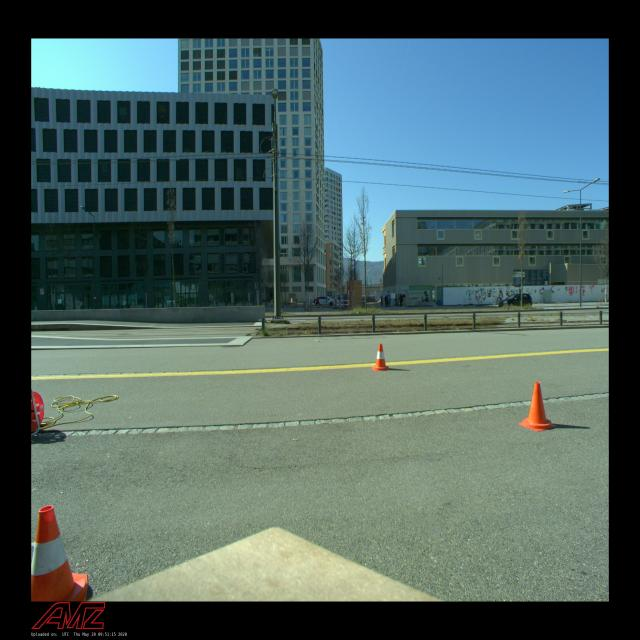orange_cone: (31, 506, 88, 602), (519, 382, 556, 431), (372, 343, 390, 371)
